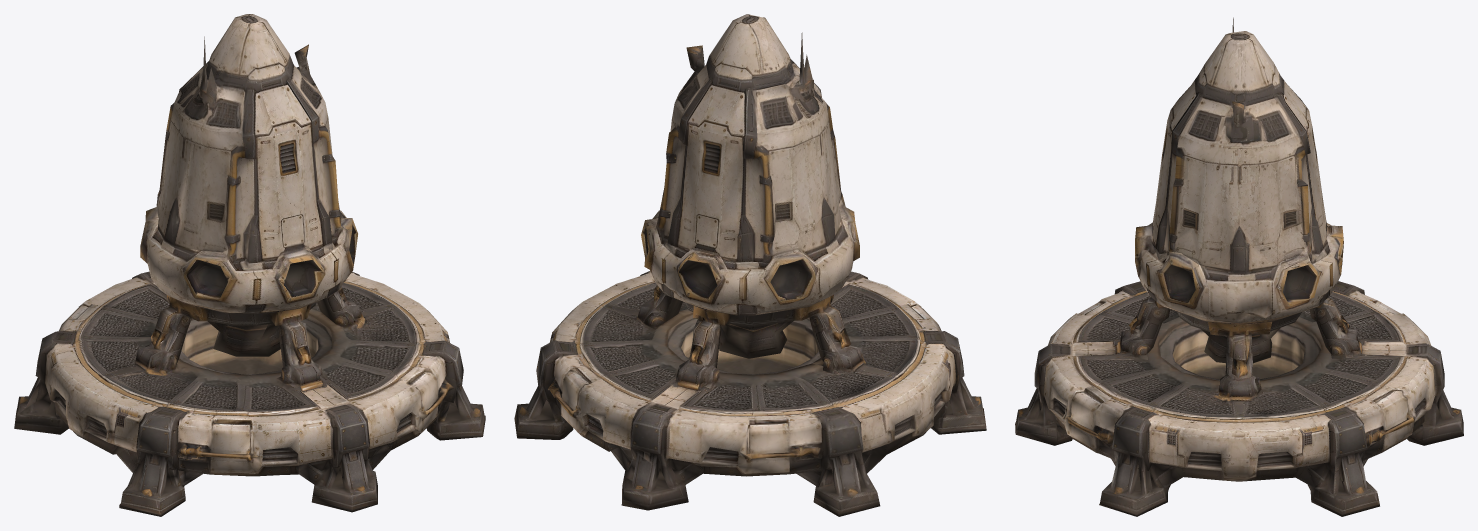
File: beacon.glb
3 views of the same model, side by side, from view 1: azimuth 30°, elevation 25°; view 2: azimuth 150°, elevation 25°; view 3: azimuth 270°, elevation 25° (orthographic). The views are drawn at different scales.
Parts seen in each view (by area): view 1: tripo_part_0, tripo_part_2, tripo_part_3, tripo_part_1; view 2: tripo_part_0, tripo_part_2, tripo_part_3, tripo_part_1; view 3: tripo_part_0, tripo_part_2, tripo_part_3, tripo_part_1.
Boxes of the visible parts, x1,y1,x2,y2 form: tripo_part_0: (14,271,485,516); tripo_part_2: (156,14,341,268); tripo_part_3: (140,207,357,313); tripo_part_1: (136,286,363,385); tripo_part_0: (514,271,986,516); tripo_part_2: (658,14,842,268); tripo_part_3: (641,194,859,315); tripo_part_1: (638,285,863,389); tripo_part_0: (1015,281,1463,516); tripo_part_2: (1152,17,1326,273); tripo_part_3: (1135,222,1343,324); tripo_part_1: (1119,297,1360,397).
Size of the model in its own units: 4.73 by 5 by 5.16.
4 materials, 4 textured.
